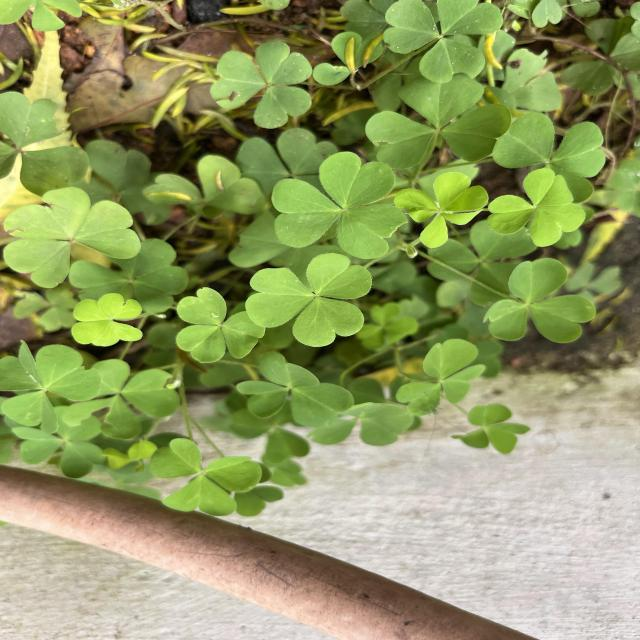Oxalis corniculata: (1, 184, 144, 292), (271, 150, 408, 260), (364, 74, 513, 171), (245, 252, 373, 348), (382, 0, 505, 85), (480, 256, 598, 344), (0, 338, 102, 434), (209, 40, 314, 130), (148, 437, 263, 518), (236, 351, 355, 428), (486, 167, 587, 248), (393, 172, 489, 250), (394, 337, 486, 417), (175, 286, 266, 364), (70, 292, 144, 348), (451, 404, 532, 454)
